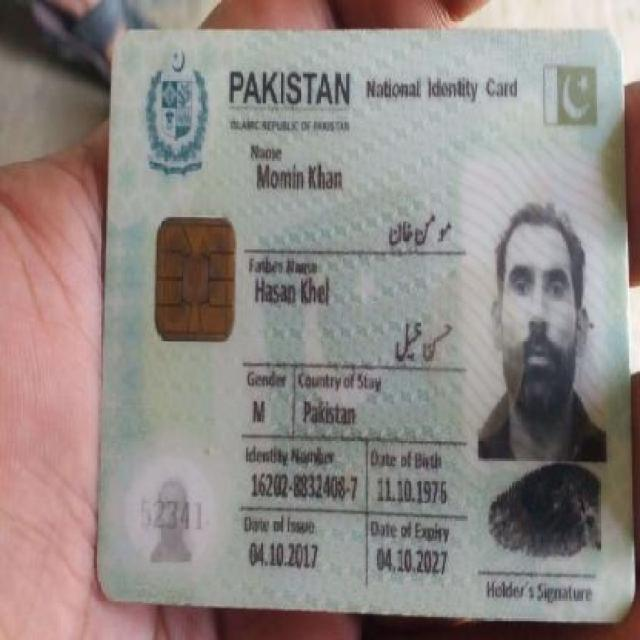Front: (85, 25, 637, 623)
